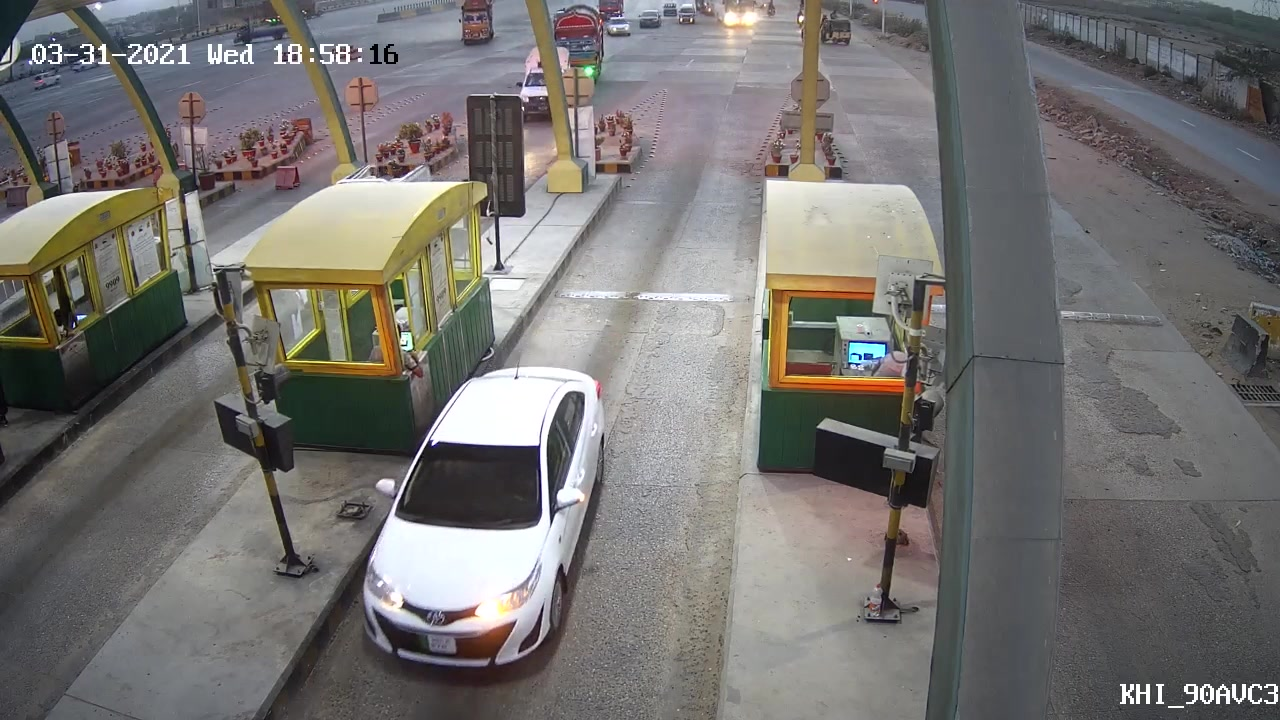F1: (351, 366, 617, 669)
